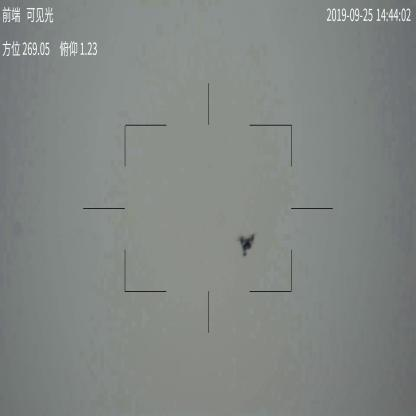uav: (237, 230, 257, 256)
